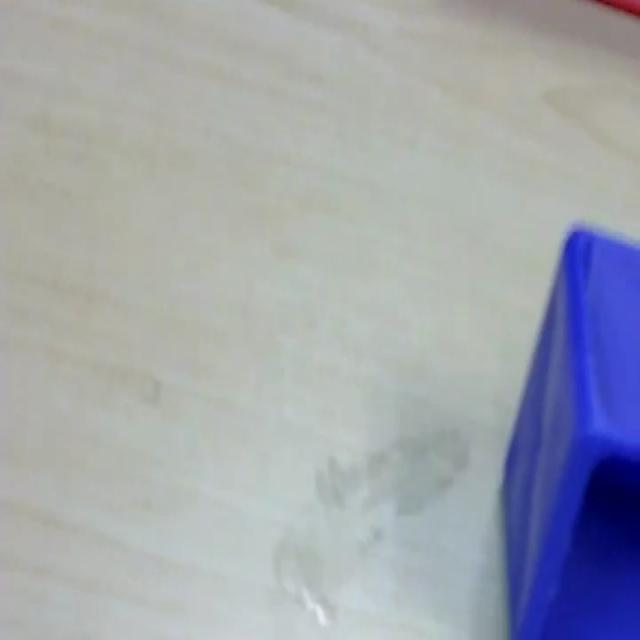blue_block: (501, 220, 638, 636)
